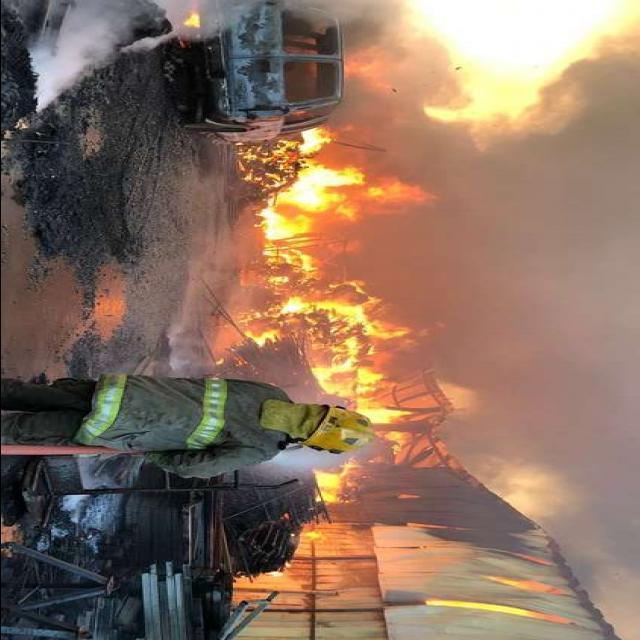Fire: (242, 138, 422, 512), (410, 0, 636, 127)
